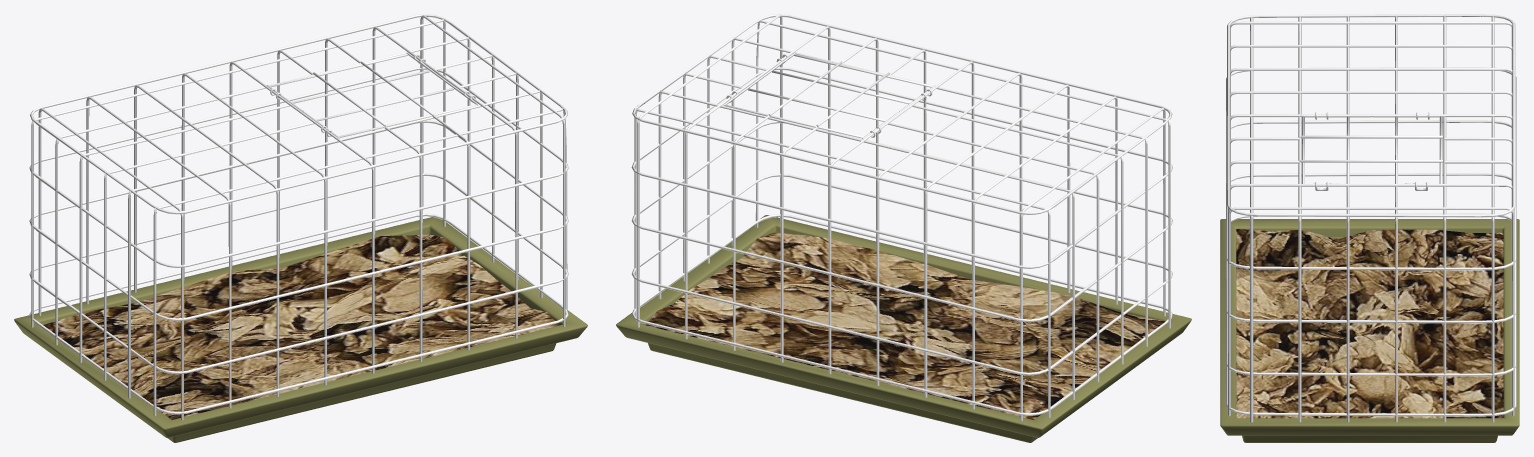
Rendered from Hamster Cage.glb.
3 renders of one model, left to right at view 1: azimuth 30°, elevation 25°; view 2: azimuth 150°, elevation 25°; view 3: azimuth 270°, elevation 25°, orthographic.
Parts seen in each view (by area): view 1: Cage Bottom.001, Cage, Cage Bottom, Door; view 2: Cage Bottom.001, Cage, Cage Bottom, Door; view 3: Cage Bottom.001, Cage, Cage Bottom, Door.
Boxes of the visible parts, box(x1,y1,x2,y2) form: Cage Bottom.001: box(43, 234, 558, 419); Cage: box(29, 14, 568, 420); Cage Bottom: box(14, 217, 587, 442); Door: box(266, 52, 478, 138); Cage Bottom.001: box(646, 232, 1164, 419); Cage: box(631, 14, 1172, 420); Cage Bottom: box(616, 215, 1191, 442); Door: box(723, 52, 935, 139); Cage Bottom.001: box(1236, 229, 1503, 418); Cage: box(1226, 14, 1516, 422); Cage Bottom: box(1220, 219, 1519, 442); Door: box(1300, 112, 1444, 190).
Size of the model in its own units: 0.6124 by 0.3315 by 0.375.
3 materials, 1 textured.
